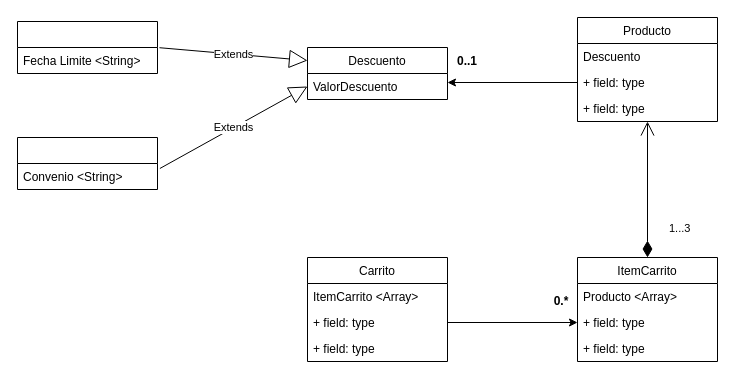
The diagram is 735 pixels wide and 382 high, and some of its shapes have lost their labels. Here are the shapes that lost their labels. From the top down, the box of each, then its label:
(16, 20, 158, 74): Temporal
(16, 136, 158, 190): Permanente
